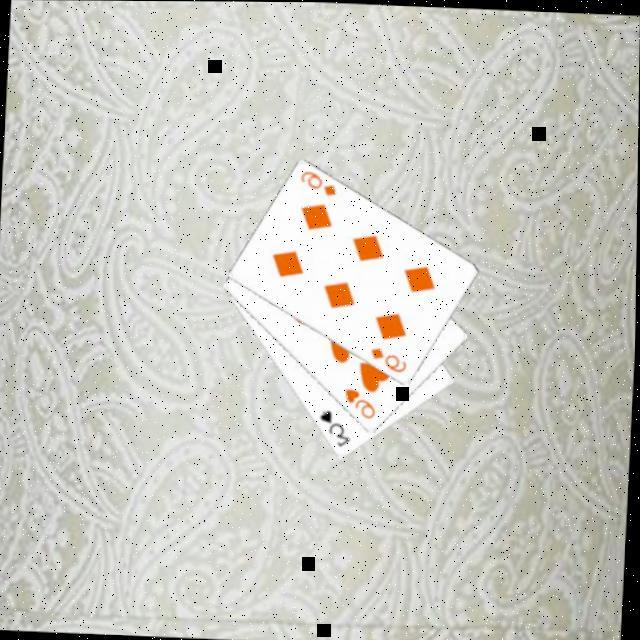3S: (314, 408, 354, 450)
6D: (366, 345, 409, 377), (296, 170, 340, 200)
9H: (340, 386, 379, 423)
